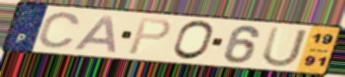6: (221, 24, 262, 65)
A: (71, 14, 119, 54)
C: (36, 11, 83, 50)
O: (170, 19, 216, 62)
P: (125, 17, 173, 57)
U: (260, 25, 311, 68)
